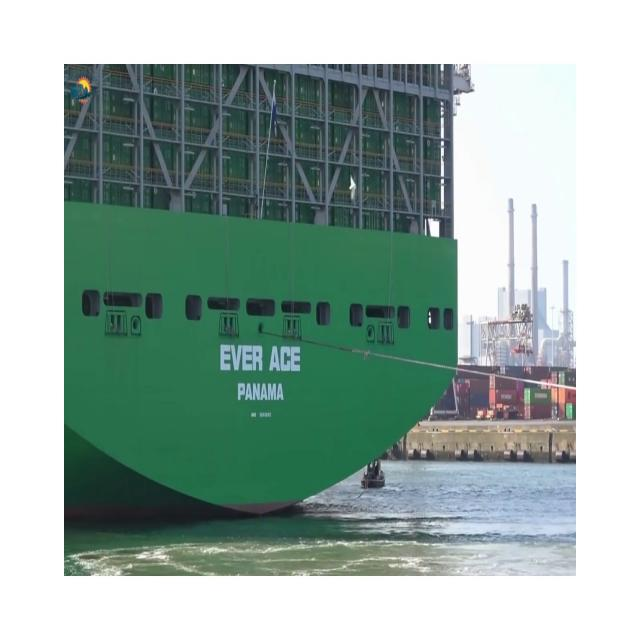OCR: (210, 331, 310, 412)
